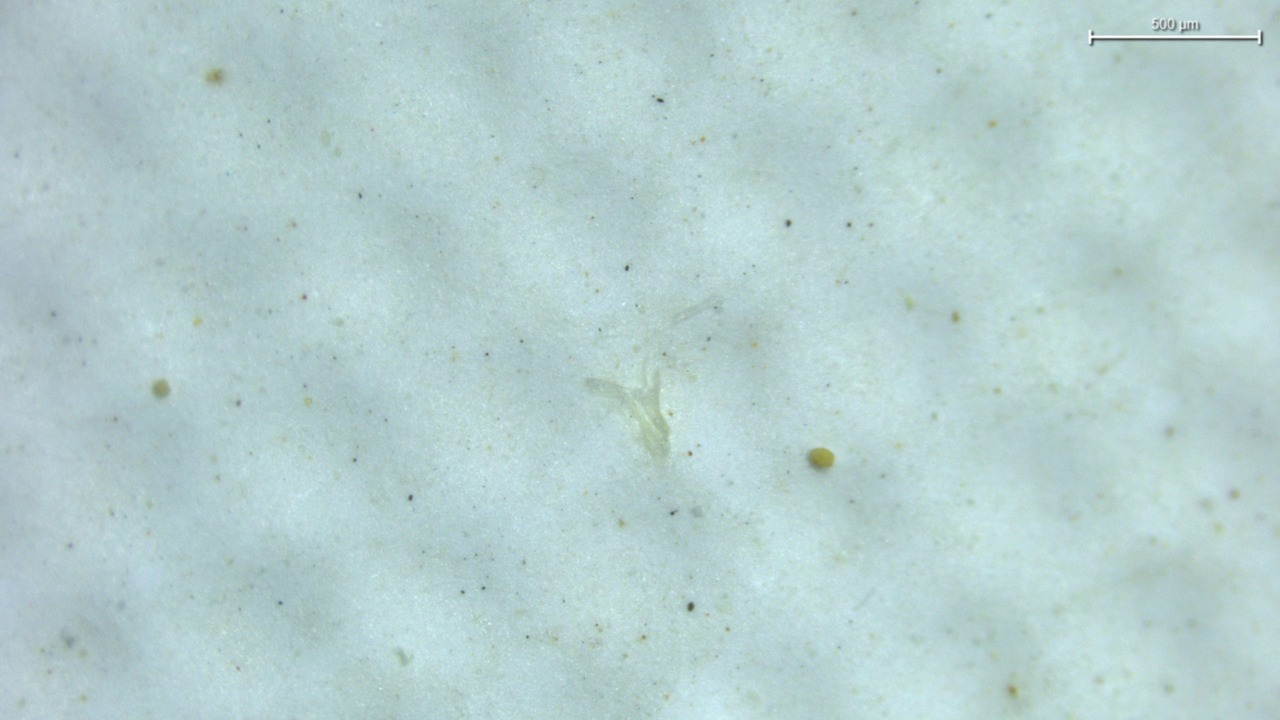microplastic_fragment: (584, 369, 670, 463)
